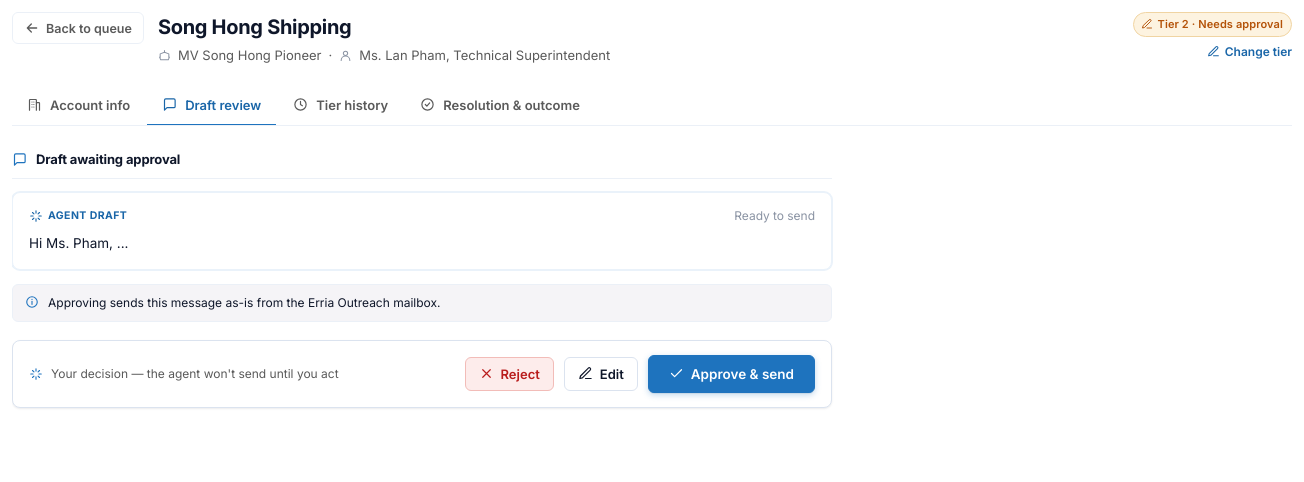
AccountDetailPage › edits the draft body and marks it edited
expect the text "Hi Ms. Pham, ..." is shown: met, box [29,235,128,251]
Click the button "Edit" at (601, 374), box [564,357,638,391]
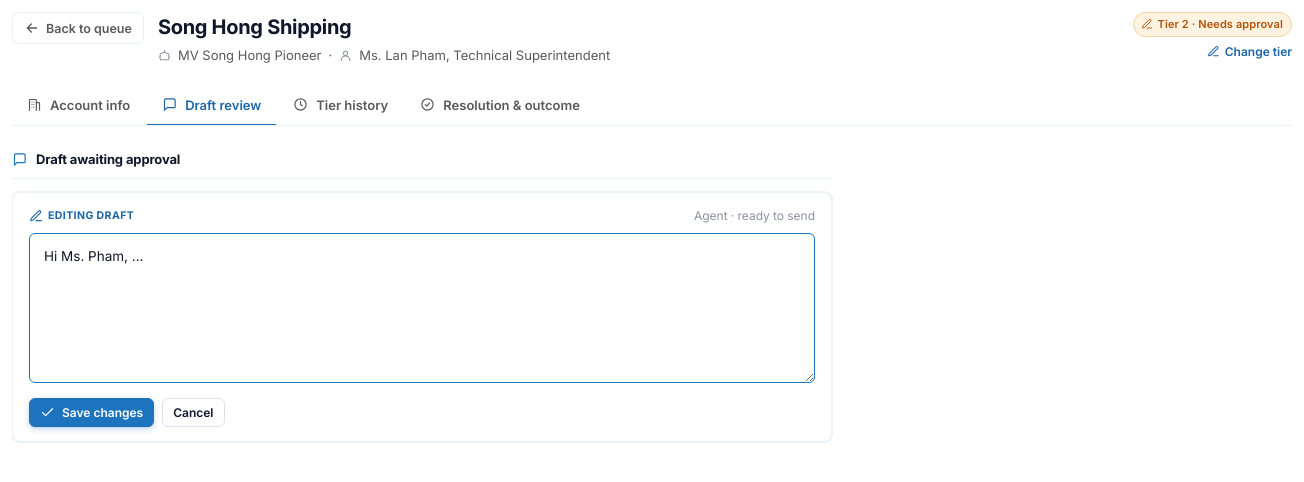
Replace the text in the text box with "Edited text" at (422, 308), box [29,233,815,383]
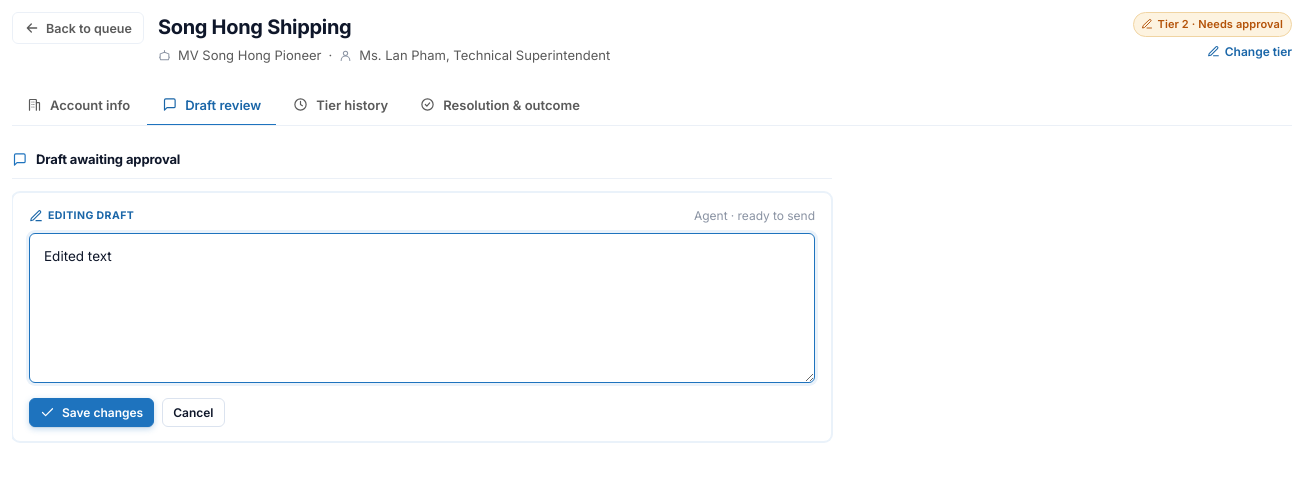
Click the button "Save changes" at (92, 412), box [29,398,154,427]
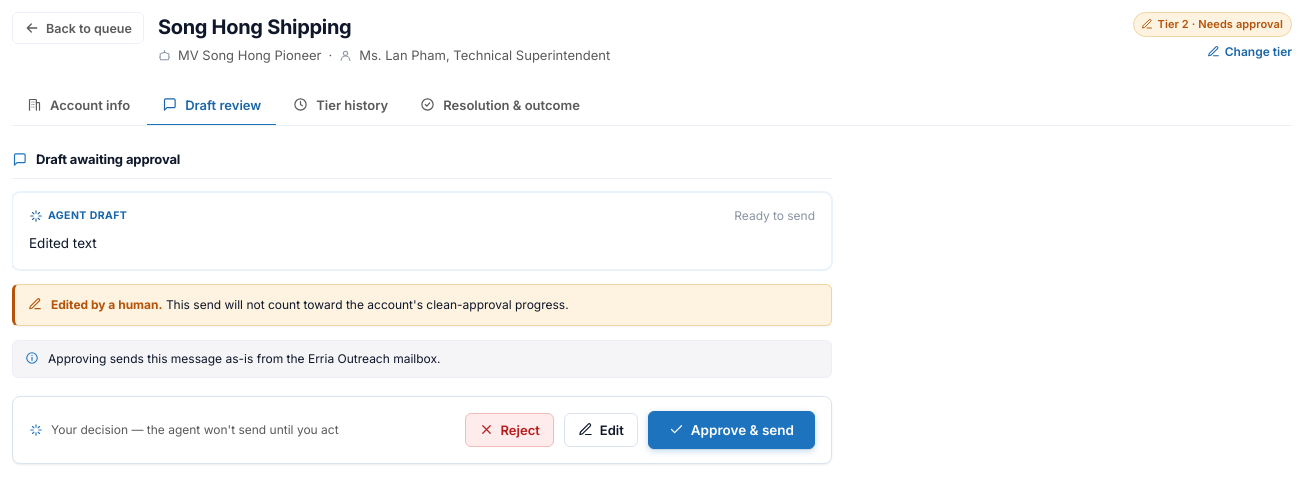
expect the text "Edited text" is shown: met, box [29,235,97,251]
expect the text "Edited by a human." is shown: met, box [51,297,162,312]
